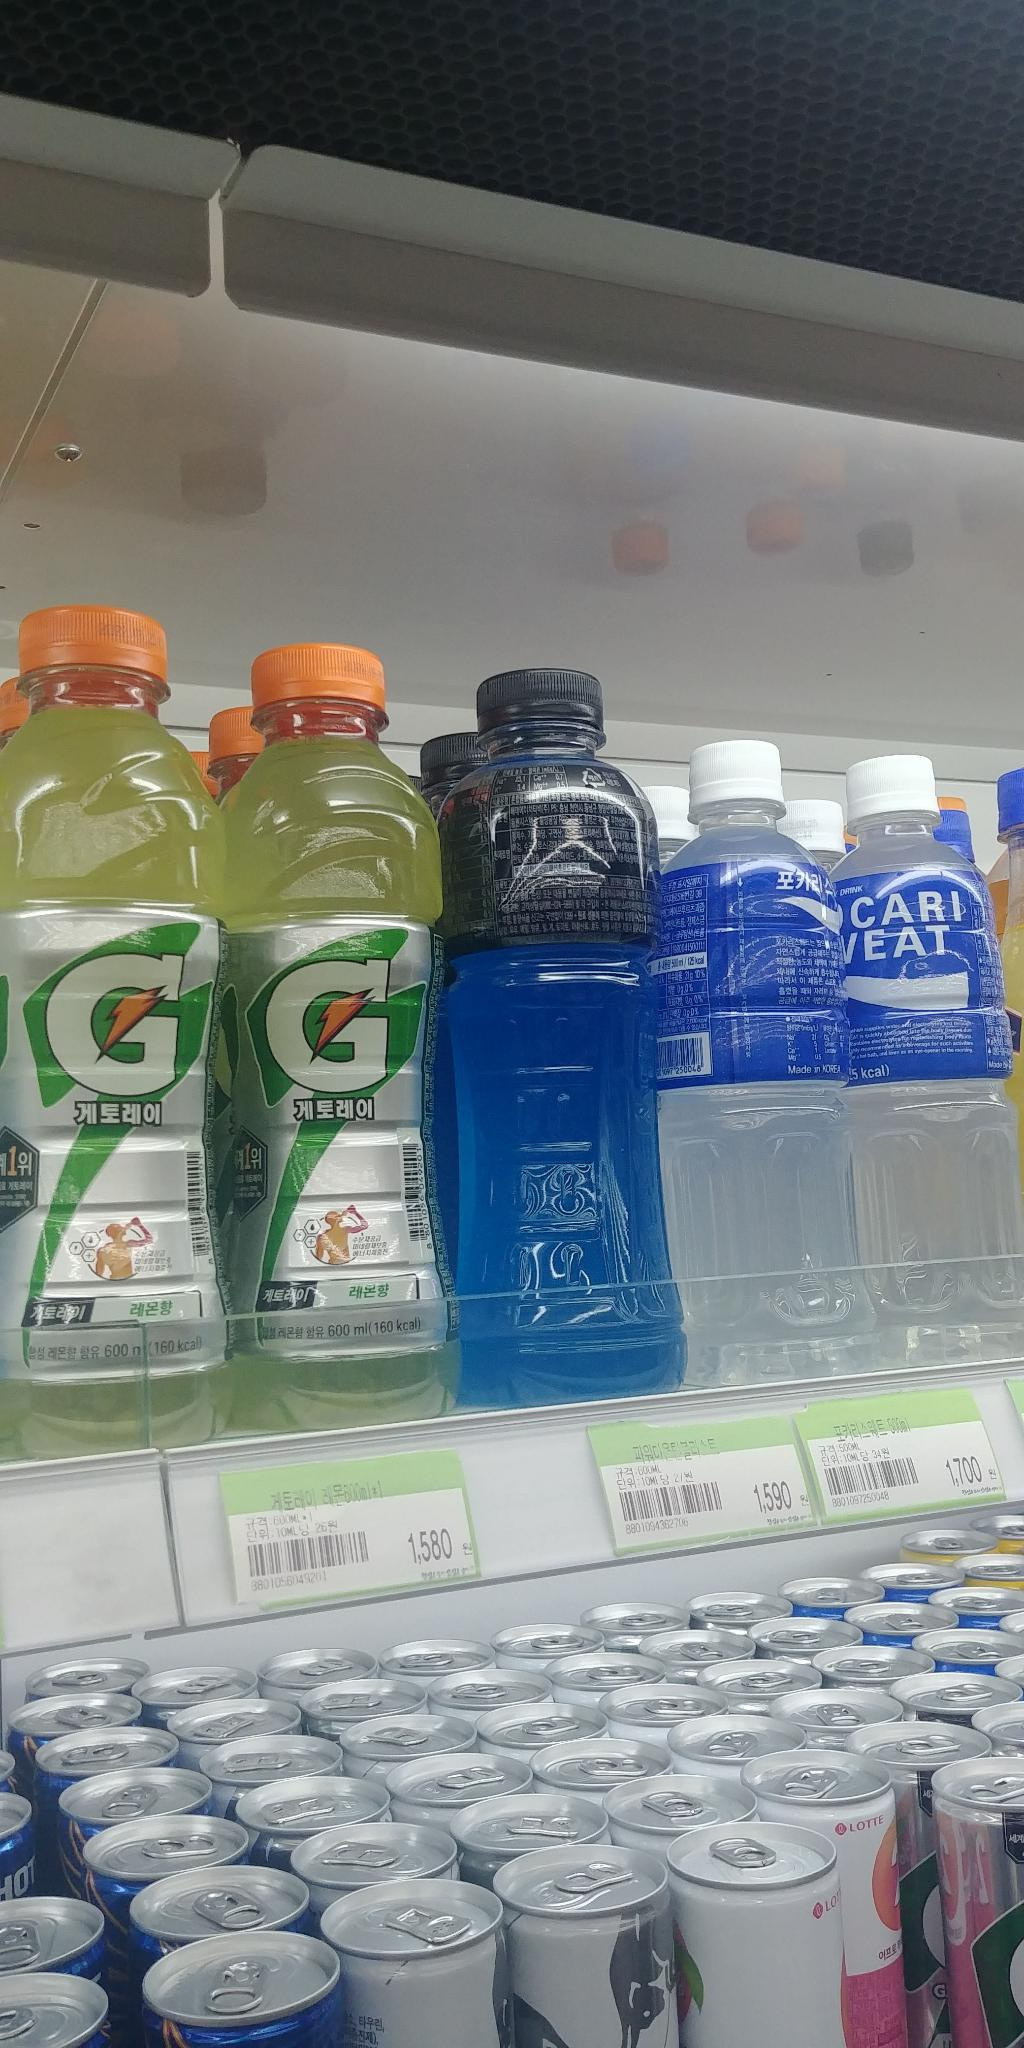gatorade_lemon: (7, 600, 236, 1488), (217, 635, 468, 1437)
